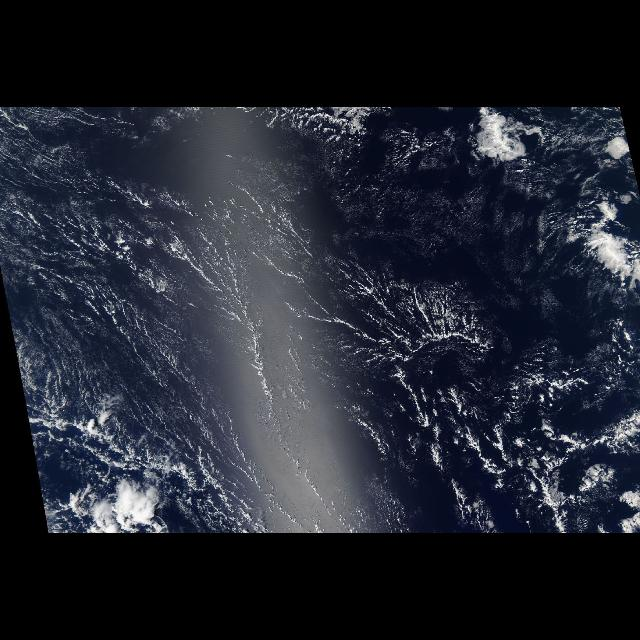Gravel: (9, 151, 533, 534)
